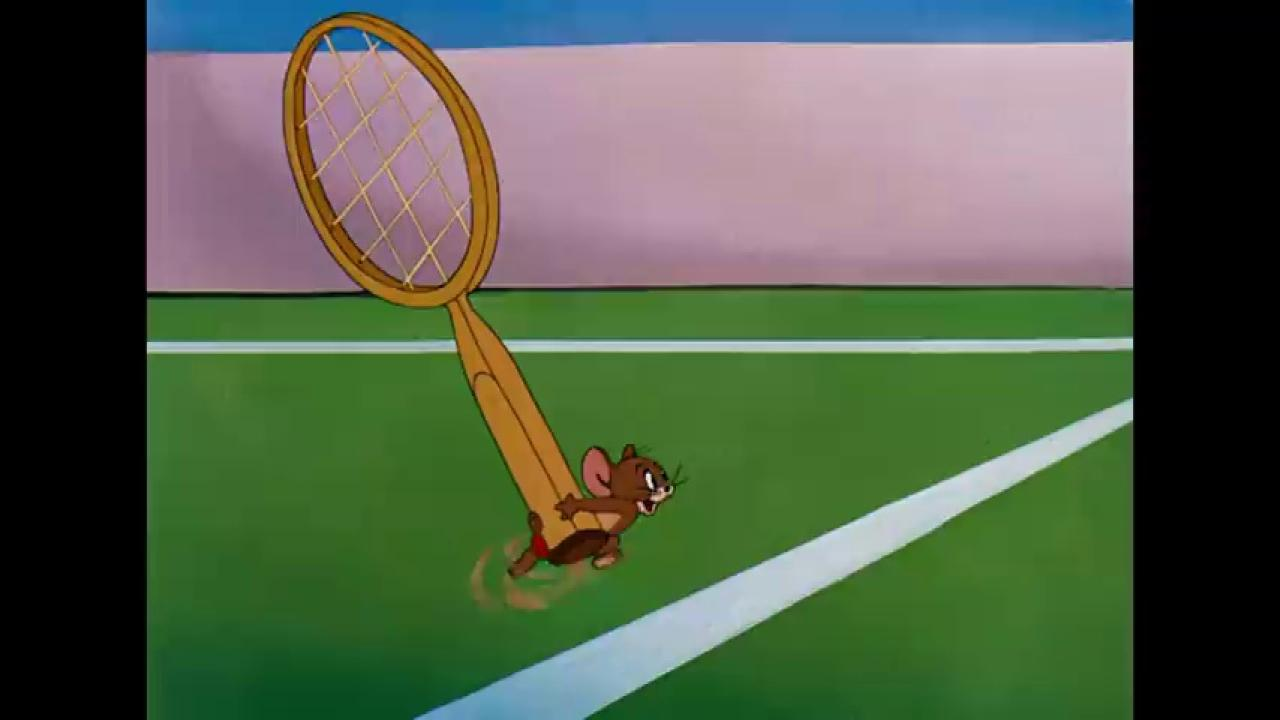Jerry: (504, 439, 690, 587)
